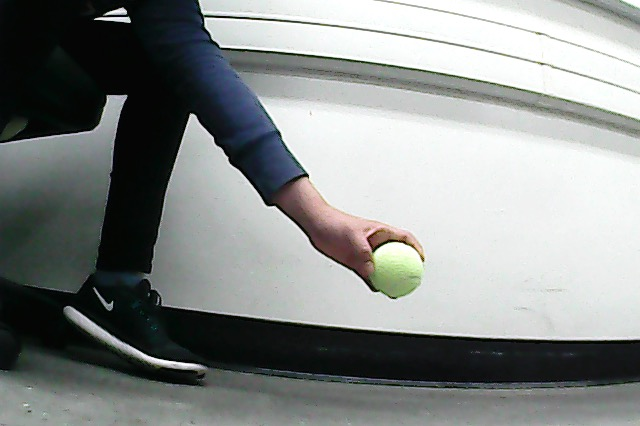ball: (366, 241, 426, 300)
